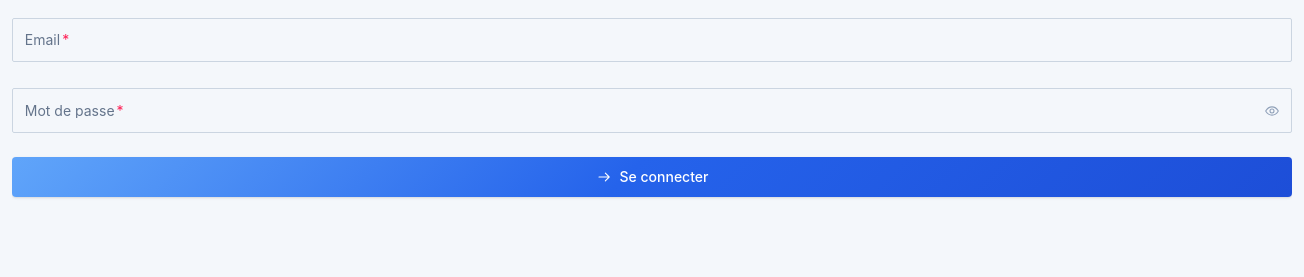
Scenario: LoginForm › signale un backend injoignable de façon actionnable
Type "a@b.test" into the field labelled "Email*" at (652, 40), box top-left (12, 18), bottom-right (1292, 62)
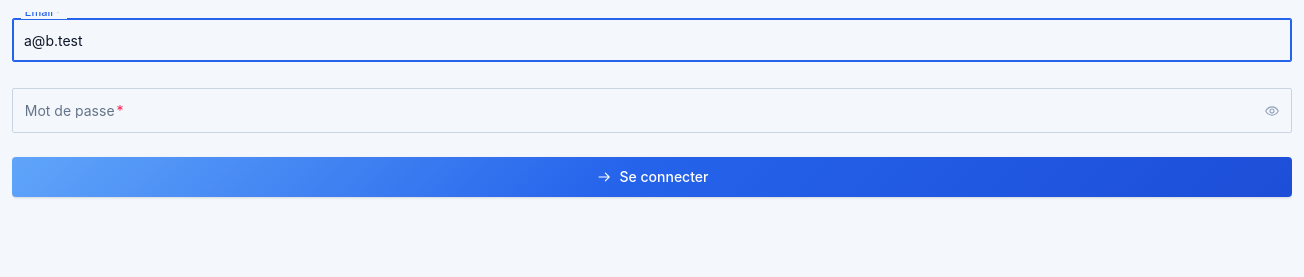
Type "password" into the password field labelled "Mot de passe*" at (652, 111), box top-left (12, 89), bottom-right (1292, 133)
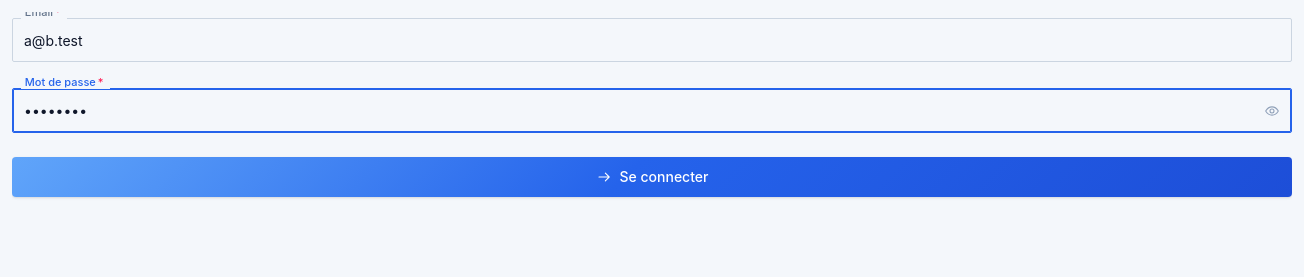
Click the button "Se connecter" at (652, 177), box top-left (12, 157), bottom-right (1292, 197)
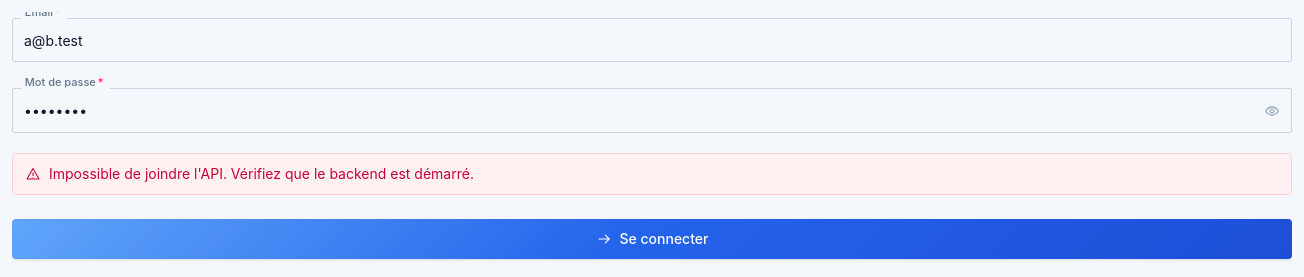
Expected: the message shows "backend", top-left (49, 165), bottom-right (474, 182)
